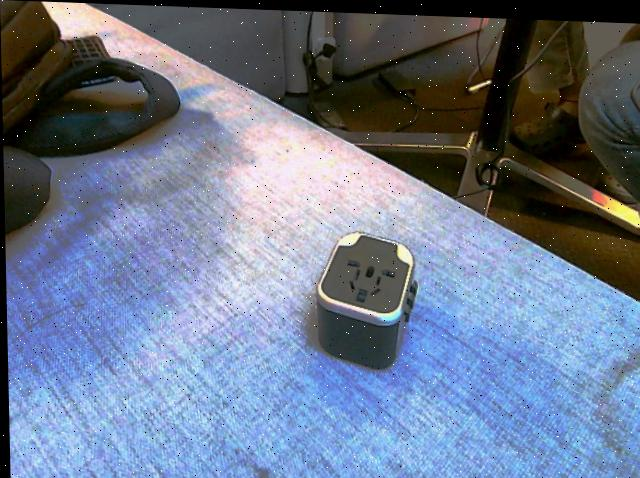adapter: (312, 227, 418, 368)
